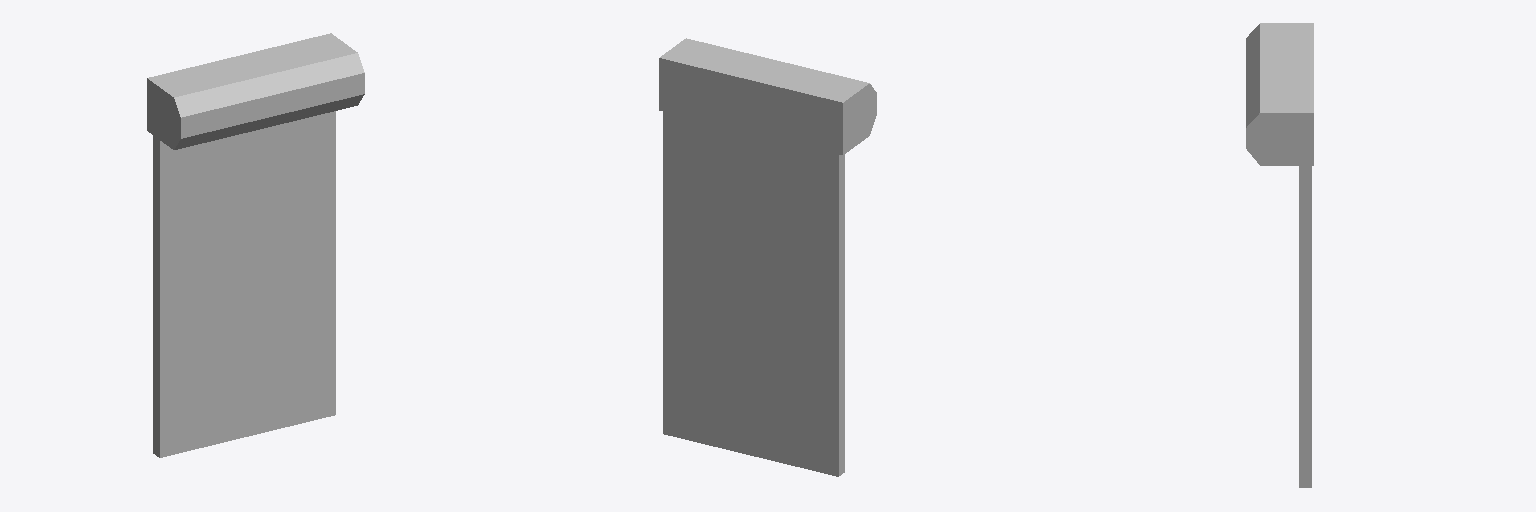
File: door.obj
3 renders of one model, left to right at view 1: azimuth 30°, elevation 25°; view 2: azimuth 150°, elevation 25°; view 3: azimuth 270°, elevation 25°, orthographic.
Visible parts, largest first — view 1: roll_up_door:main_door roll_up_door:roll_up_door roll_up_door:po, roll_up_door:awning_above roll_up_door:roll_up_door roll_up_door; view 2: roll_up_door:main_door roll_up_door:roll_up_door roll_up_door:po, roll_up_door:awning_above roll_up_door:roll_up_door roll_up_door; view 3: roll_up_door:awning_above roll_up_door:roll_up_door roll_up_door, roll_up_door:main_door roll_up_door:roll_up_door roll_up_door:po.
Part boxes in pixels (x1,y1,x2,y2): roll_up_door:main_door roll_up_door:roll_up_door roll_up_door:po: (153, 111, 335, 457); roll_up_door:awning_above roll_up_door:roll_up_door roll_up_door: (147, 33, 364, 149); roll_up_door:main_door roll_up_door:roll_up_door roll_up_door:po: (663, 112, 844, 476); roll_up_door:awning_above roll_up_door:roll_up_door roll_up_door: (659, 38, 876, 154); roll_up_door:awning_above roll_up_door:roll_up_door roll_up_door: (1246, 23, 1313, 165); roll_up_door:main_door roll_up_door:roll_up_door roll_up_door:po: (1299, 166, 1311, 487).
Size of the model in its own units: 8.12 by 15.85 by 2.58.